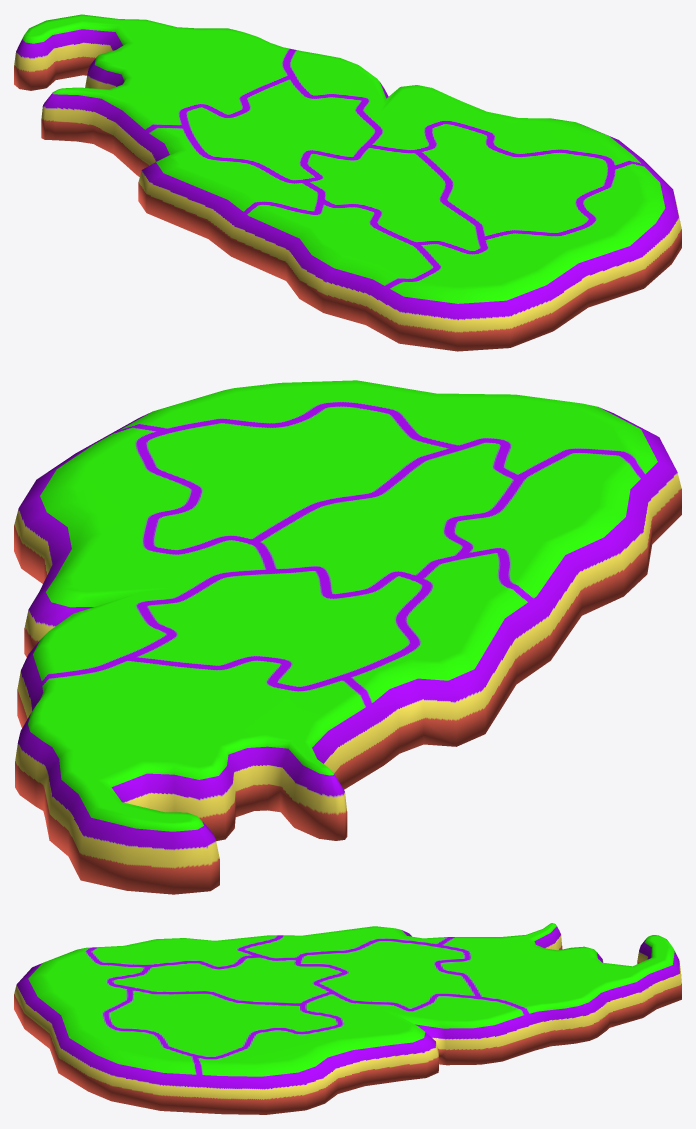
The model's file is srilanka_cartoon_map.glb.
3 renders of one model, top to bottom at view 1: azimuth 30°, elevation 25°; view 2: azimuth 150°, elevation 25°; view 3: azimuth 270°, elevation 25°, orthographic. The views are drawn at different scales.
Visible parts, largest first — view 1: sri lanka map; view 2: sri lanka map; view 3: sri lanka map.
Part boxes in pixels (x1,y1,x2,y2): sri lanka map: (14,14,681,351); sri lanka map: (14,380,681,894); sri lanka map: (14,923,681,1114).
Size of the model in its own units: 12.59 by 1.39 by 22.2.
Materials: 1 (1 with a texture image).
